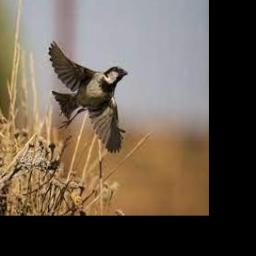Sparrow: (48, 40, 128, 153)
